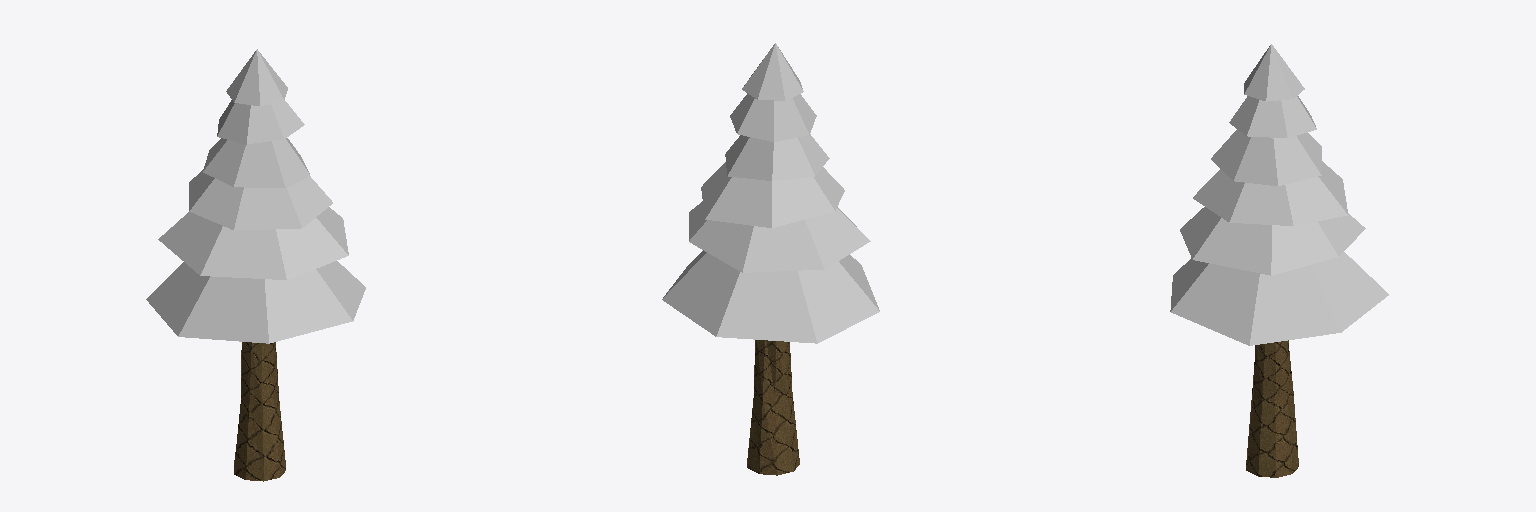
The picture shows the model from 3 angles: view 1: azimuth 30°, elevation 25°; view 2: azimuth 150°, elevation 25°; view 3: azimuth 270°, elevation 25°; orthographic projection.
Visible parts, largest first — view 1: leaves_Cone.005, wood_Cylinder; view 2: leaves_Cone.005, wood_Cylinder; view 3: leaves_Cone.005, wood_Cylinder.
Part boxes in pixels (x1,y1,x2,y2): leaves_Cone.005: (146,49,365,343); wood_Cylinder: (234,342,285,481); leaves_Cone.005: (662,43,879,343); wood_Cylinder: (747,340,799,475); leaves_Cone.005: (1170,44,1388,345); wood_Cylinder: (1246,340,1298,477).
Size of the model in its own units: 1.56 by 3.31 by 1.56.
2 materials, 1 textured.